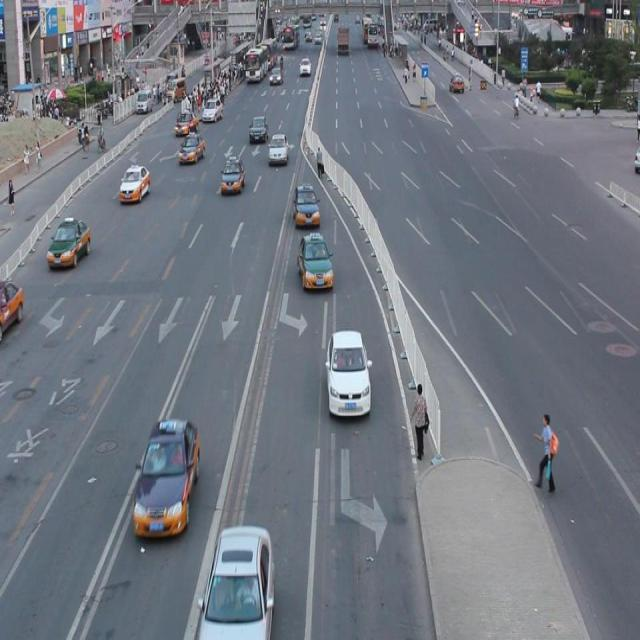car: (198, 521, 276, 640), (132, 416, 201, 537), (325, 326, 371, 416), (46, 215, 91, 270), (298, 232, 334, 291), (1, 277, 25, 336), (292, 182, 320, 228), (119, 163, 151, 202), (220, 154, 245, 194)
